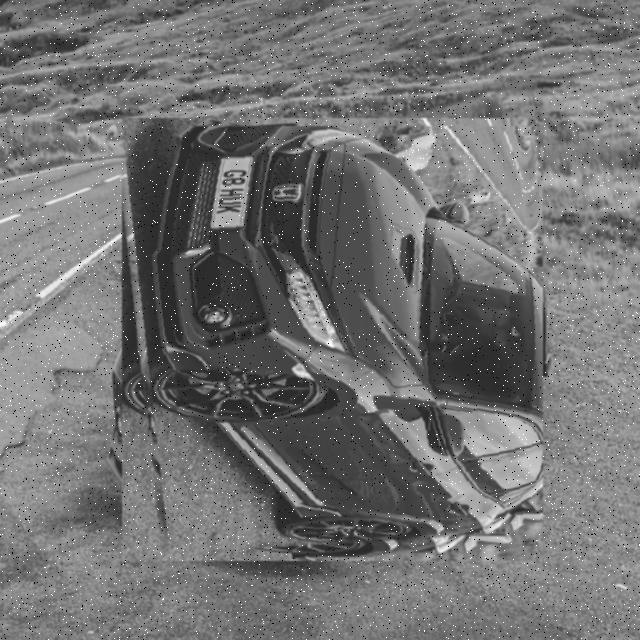car: (115, 127, 544, 555)
